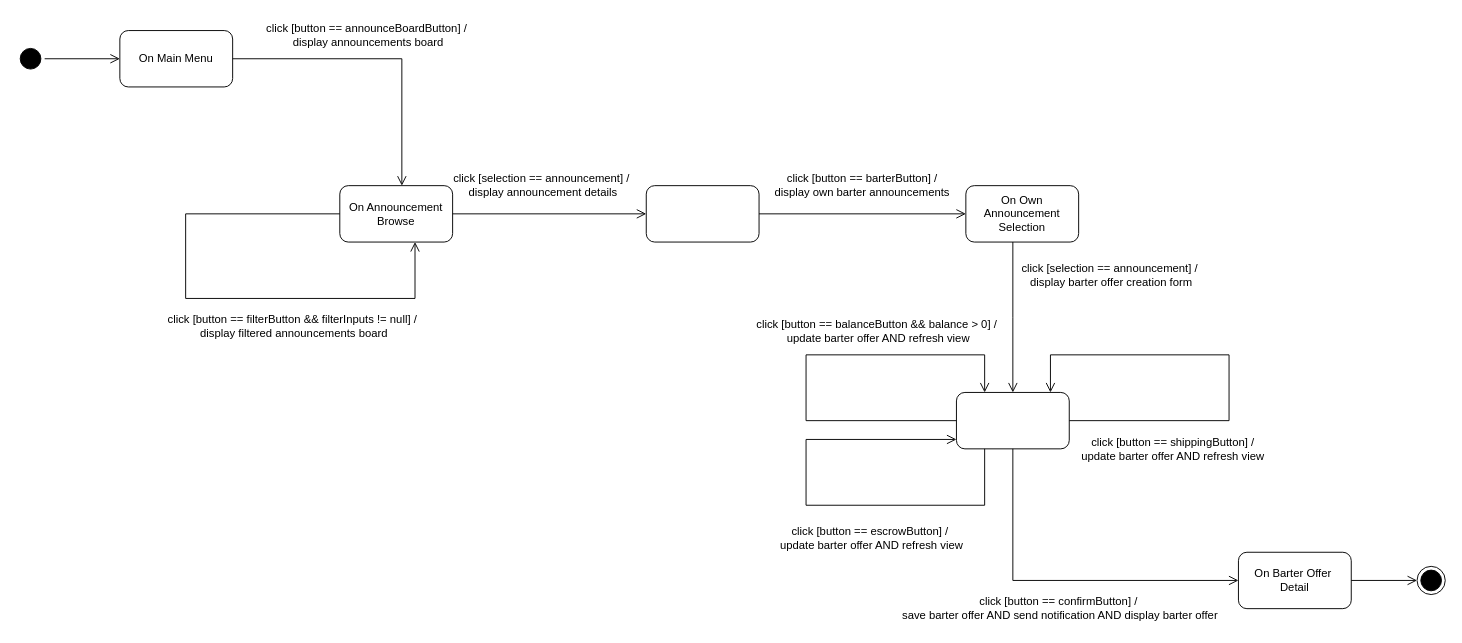
This 1462x643 diagram has some shape labels left out. The shapes that lost their labels are listed below. From the top down, each one's centre as x and y in pixels, then its label:
At (x=702, y=213): "On Announcement Detail".
At (x=1012, y=420): "On Barter Offer Creation".
